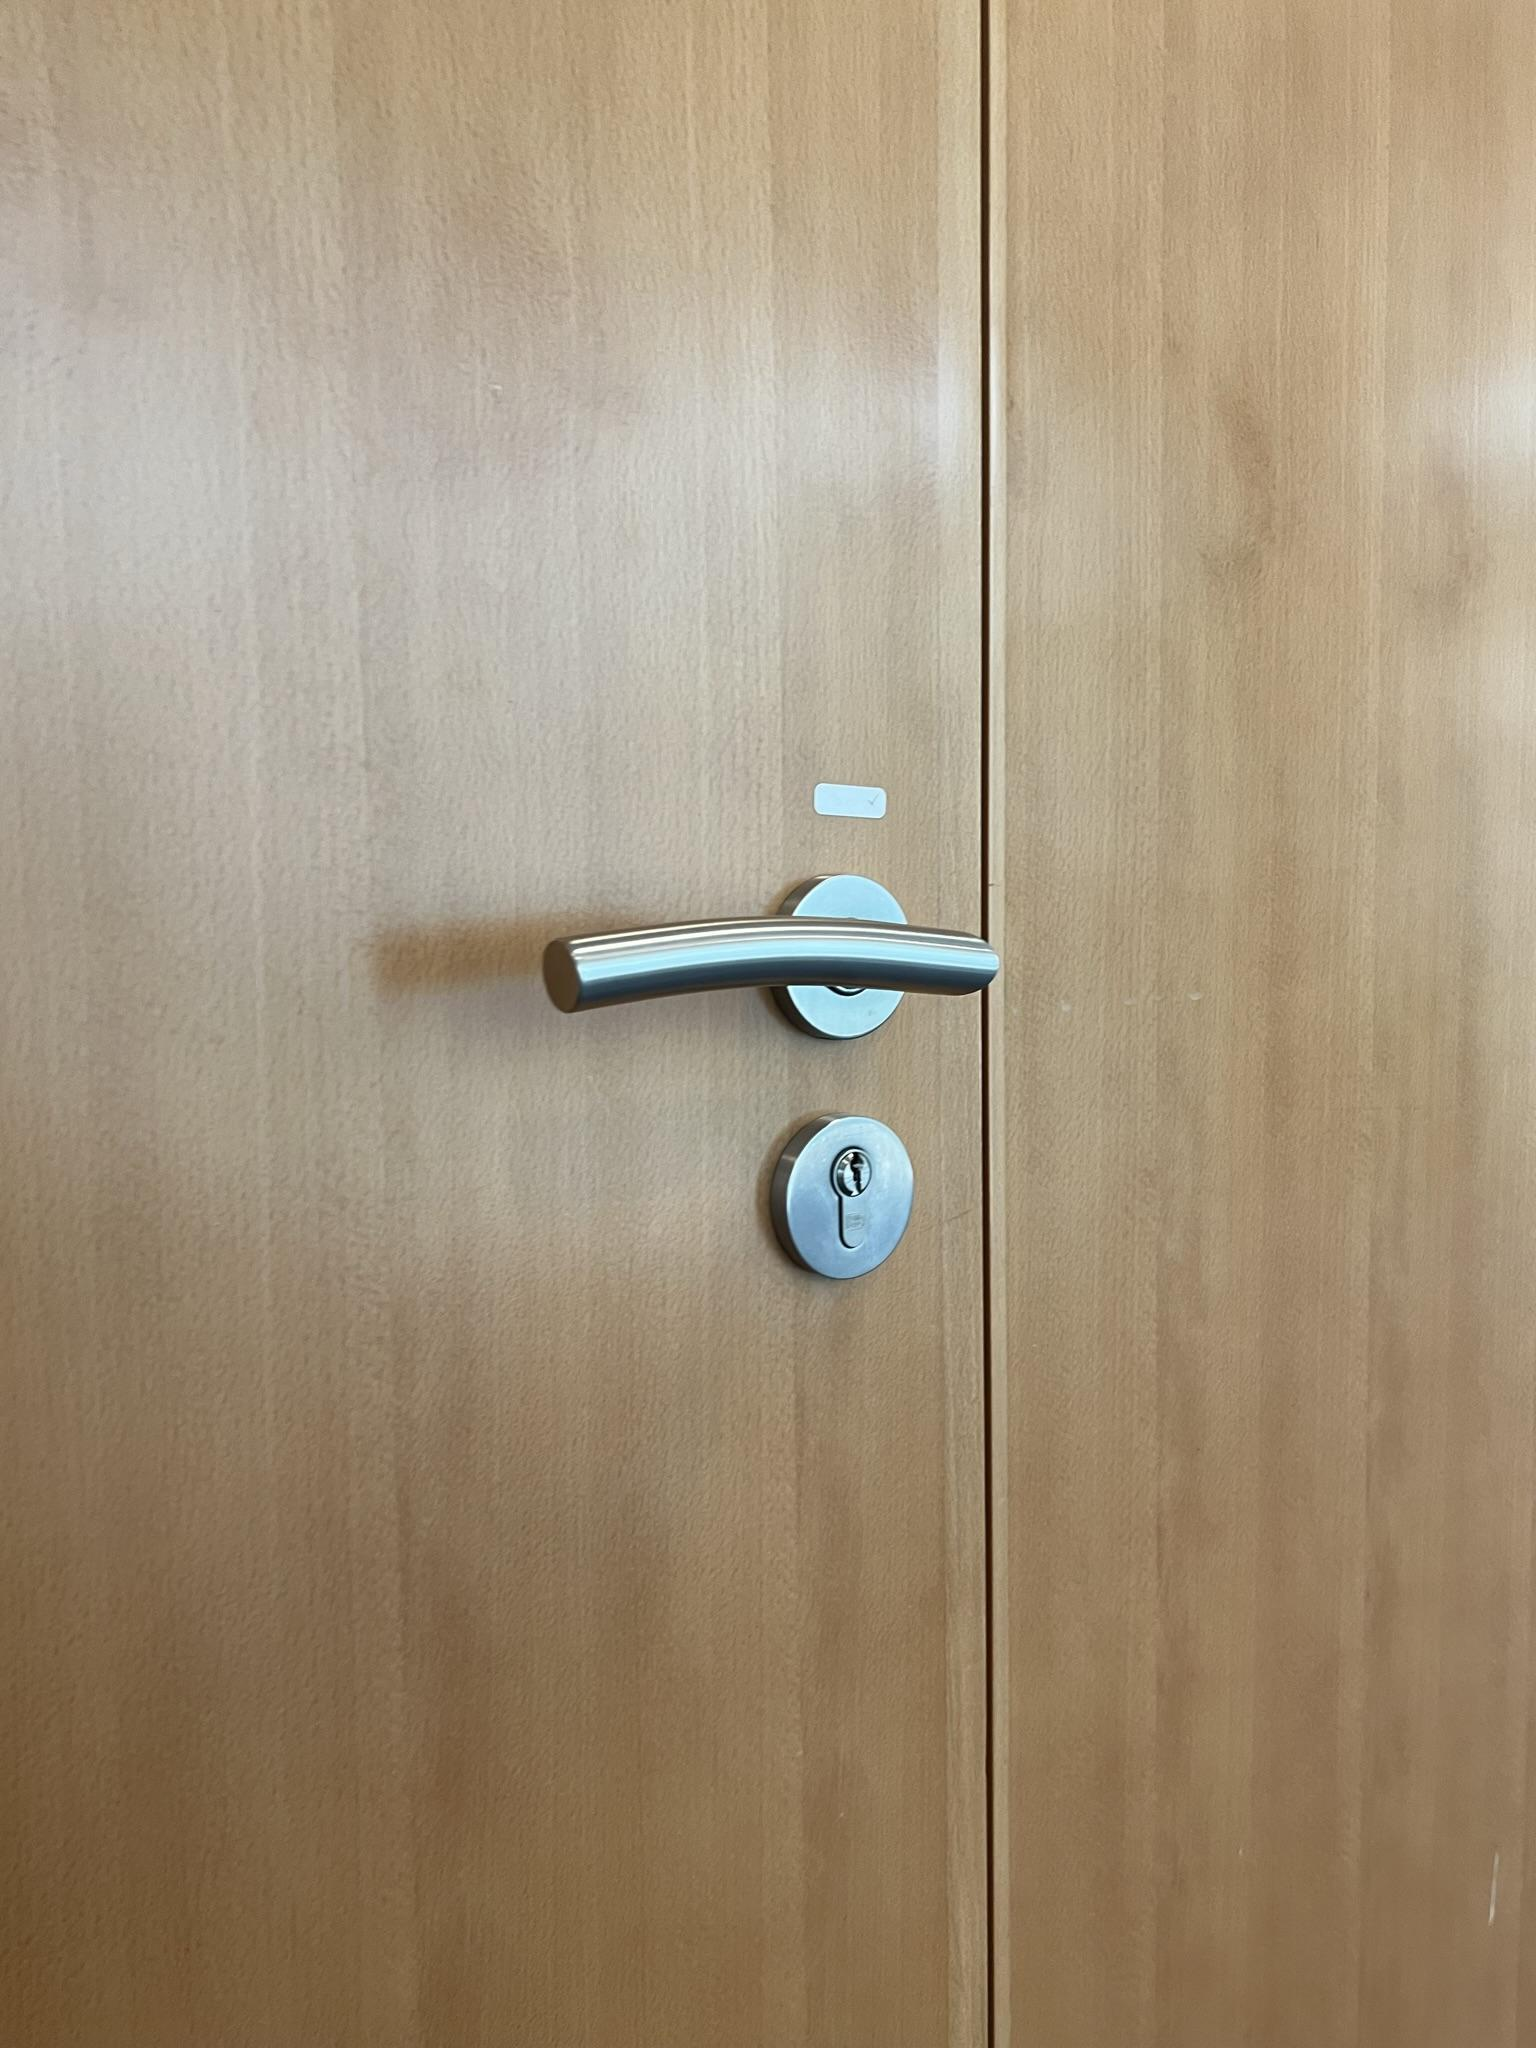door: (6, 11, 1013, 2027)
handle: (532, 847, 1008, 1063)
